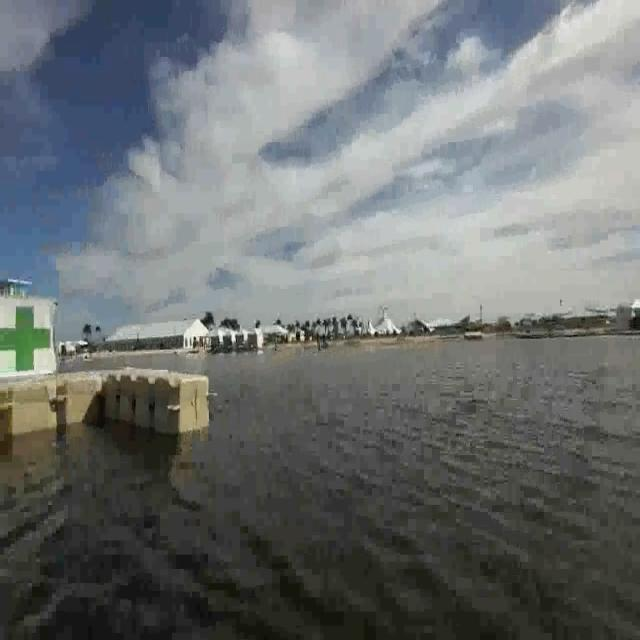blue-cross: (0, 298, 59, 382)
